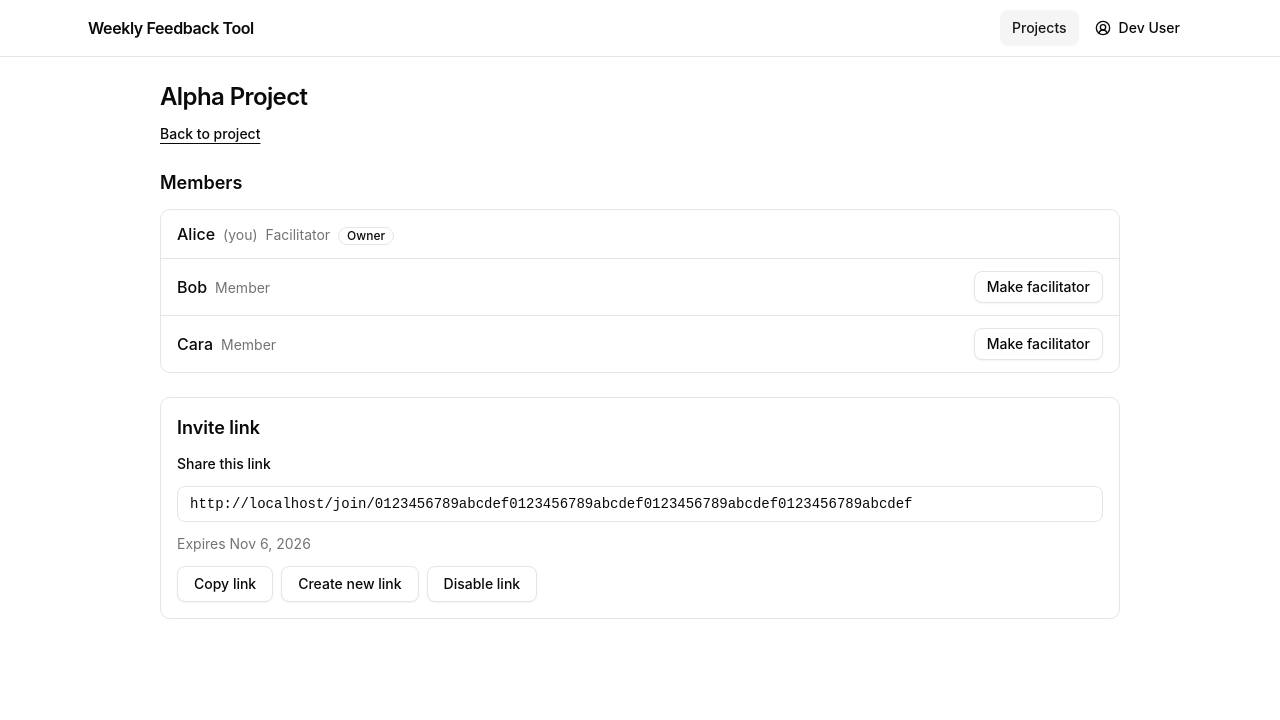
Scenario: ProjectMembersPage as the owner › shows a manual-copy message when the clipboard rejects
The image size is (1280, 720).
Click the button "Copy link": [225, 584] box x1=177 y1=566 x2=273 y2=602
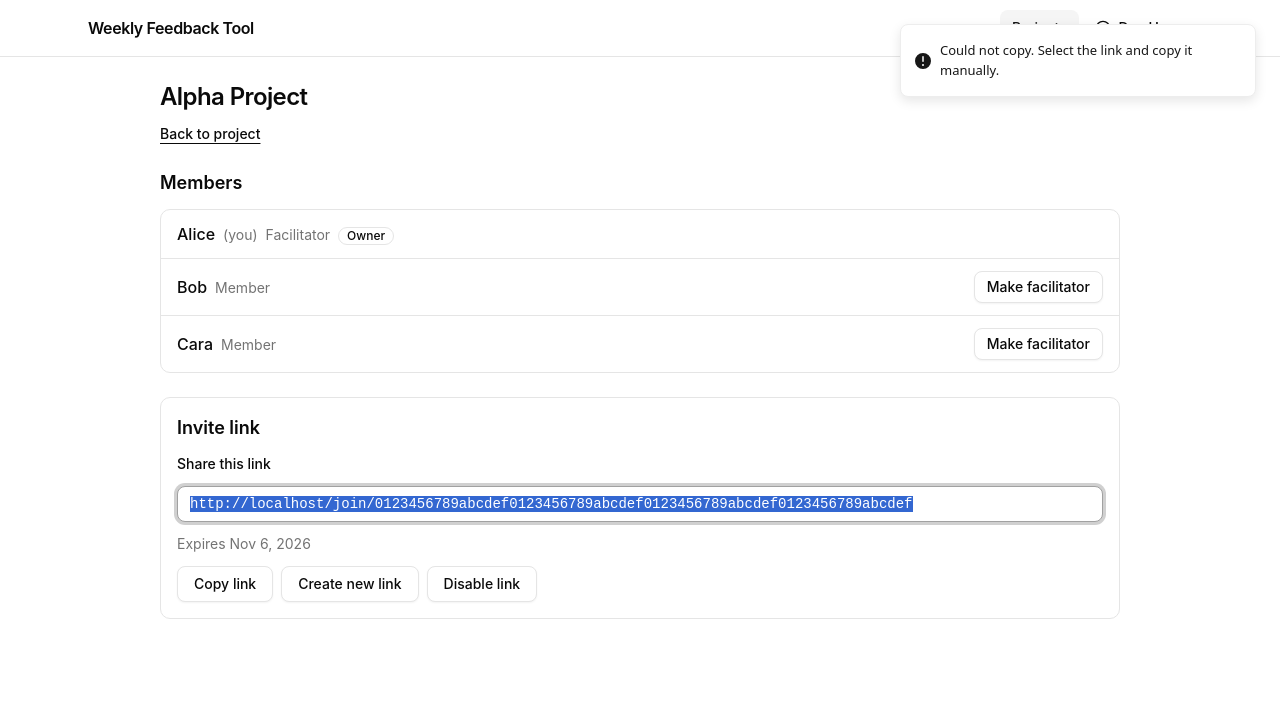
Expected: the text "Could not copy. Select the link and copy it manually." is shown, x1=940 y1=41 x2=1192 y2=78
